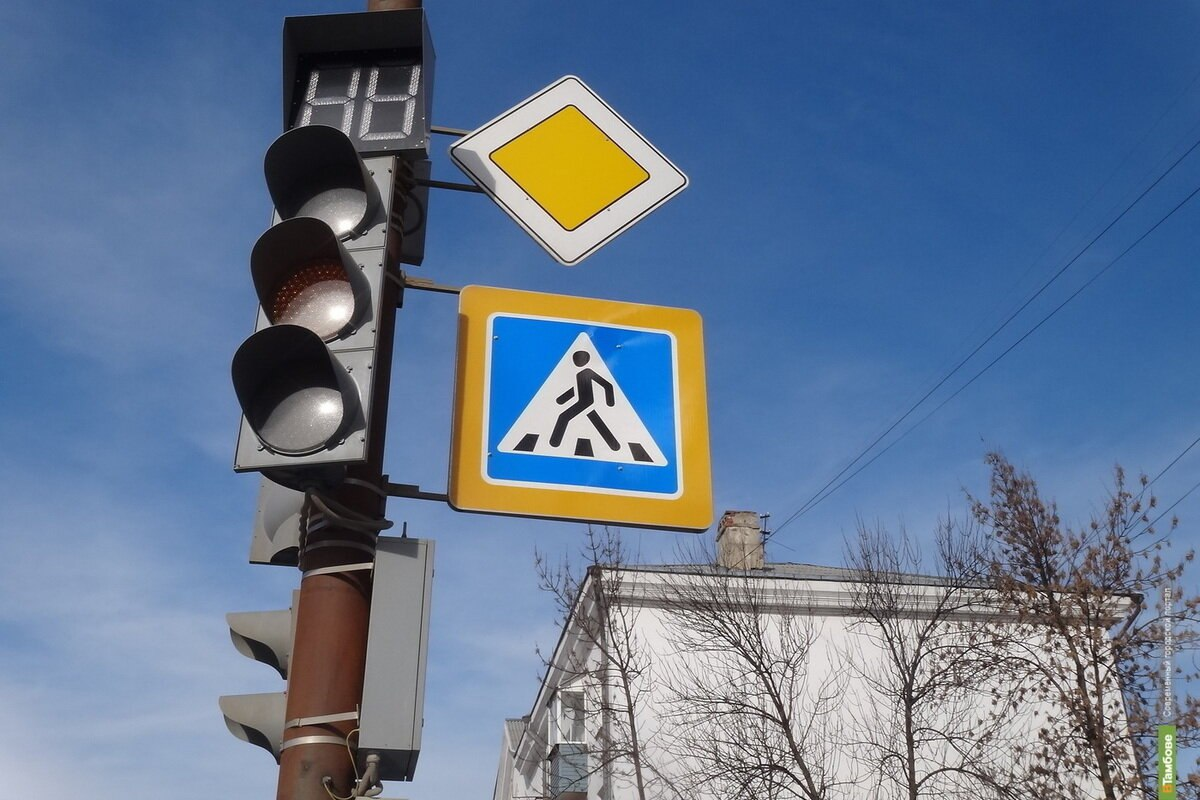tl: (231, 125, 397, 489)
